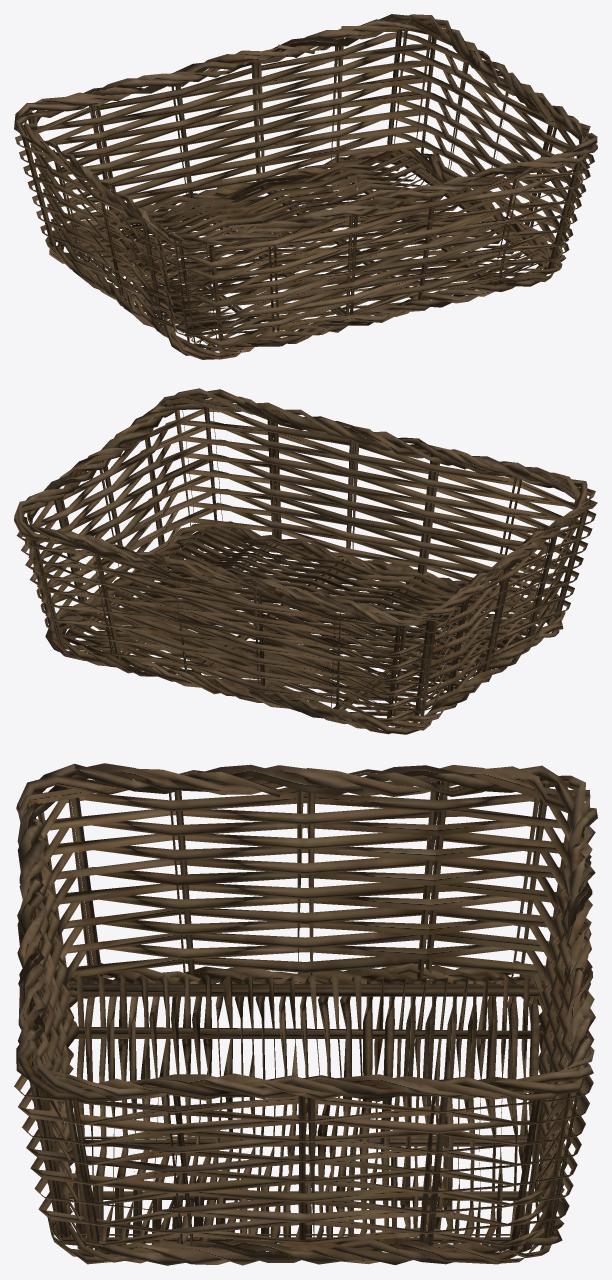
File: wicker_basket_01.glb
3 renders of one model, top to bottom at view 1: azimuth 30°, elevation 25°; view 2: azimuth 150°, elevation 25°; view 3: azimuth 270°, elevation 25°, orthographic. The views are drawn at different scales.
Visible parts, largest first — view 1: wicker_basket_01; view 2: wicker_basket_01; view 3: wicker_basket_01.
Boxes of the visible parts, x1,y1,x2,y2 form: wicker_basket_01: (14,14,597,359); wicker_basket_01: (14,388,597,734); wicker_basket_01: (14,763,597,1265).
Size of the model in its own units: 0.383 by 0.1174 by 0.2939.
Materials: 1 (1 with a texture image).
